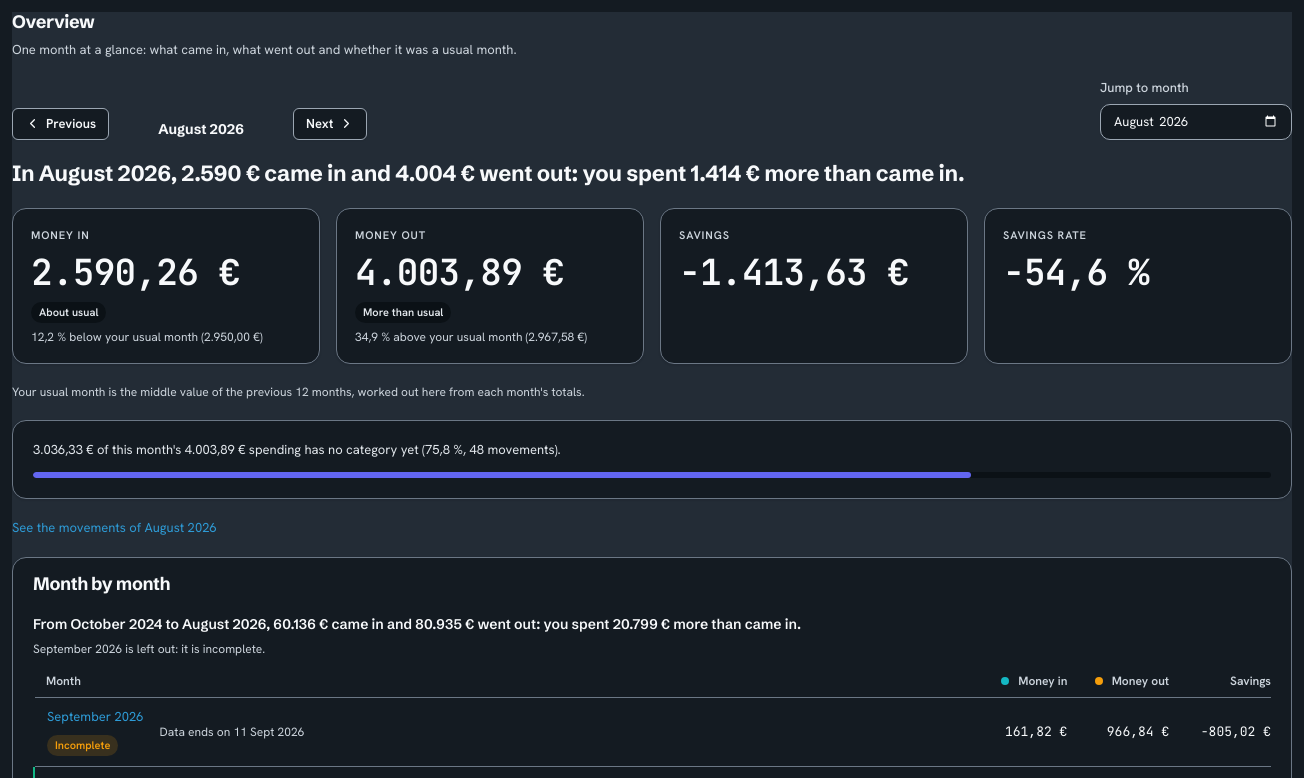
Test: OverviewView › the month lives in the URL (R2, R3) › the month picker jumps to any month through the URL too
Step 1. Replace the text in the field labelled "Jump to month" with "2026-01" → (1196, 122), box x1=1100 y1=104 x2=1292 y2=140
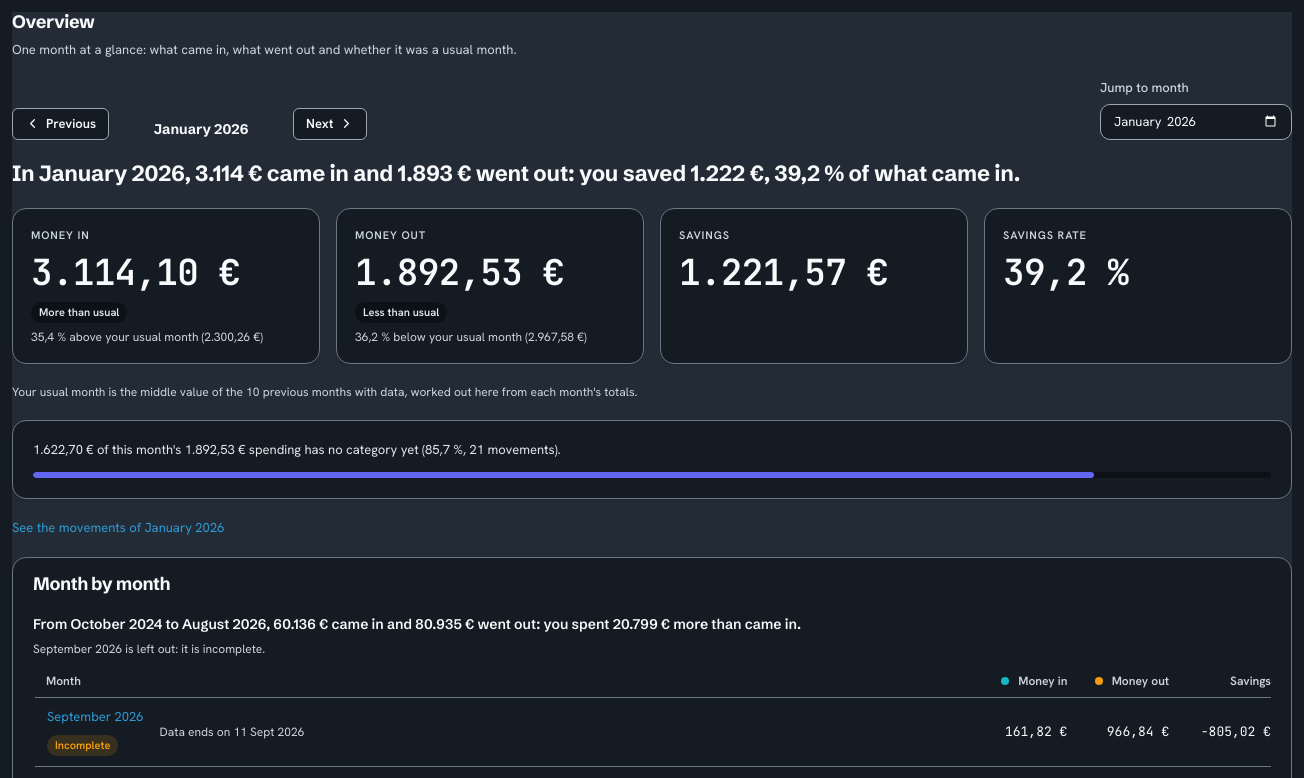
expect the text with test id "overview-sentence" shows "In January 2026": met, box x1=12 y1=160 x2=1020 y2=187
